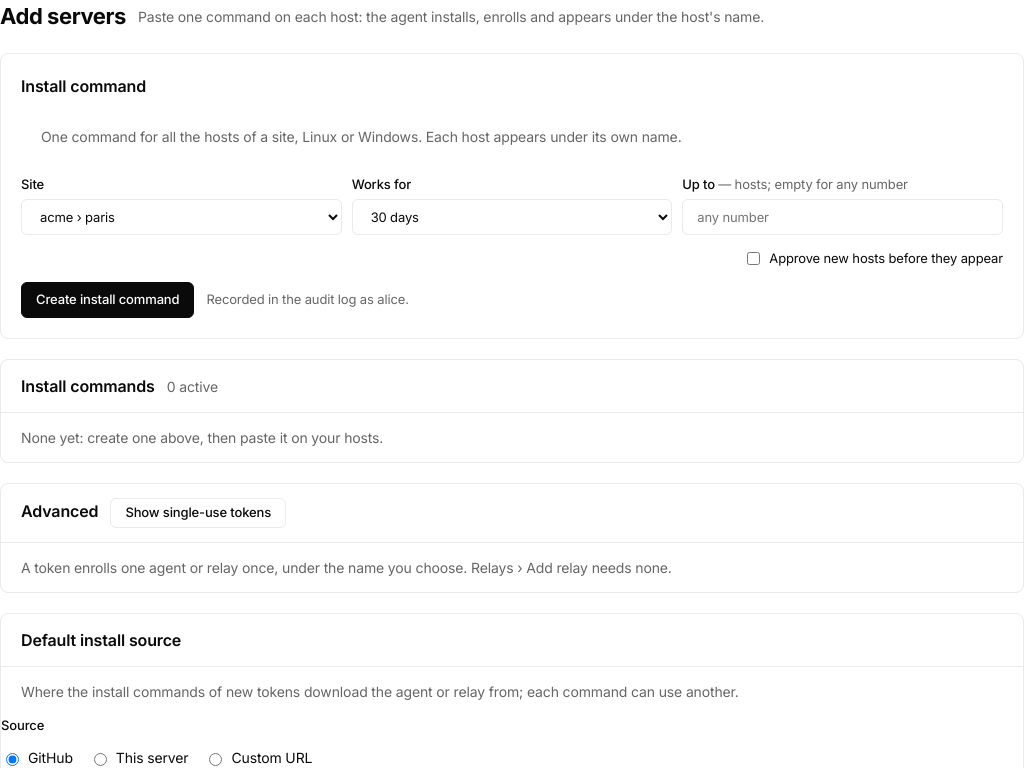
it: TokensAdmin › lets global administrators change the default source
Check: the radio button labelled "GitHub" is checked, box [6, 752, 19, 766]
Click the radio button labelled "Custom URL".
click(216, 759)  # box [209, 752, 222, 766]
(page scrolled)
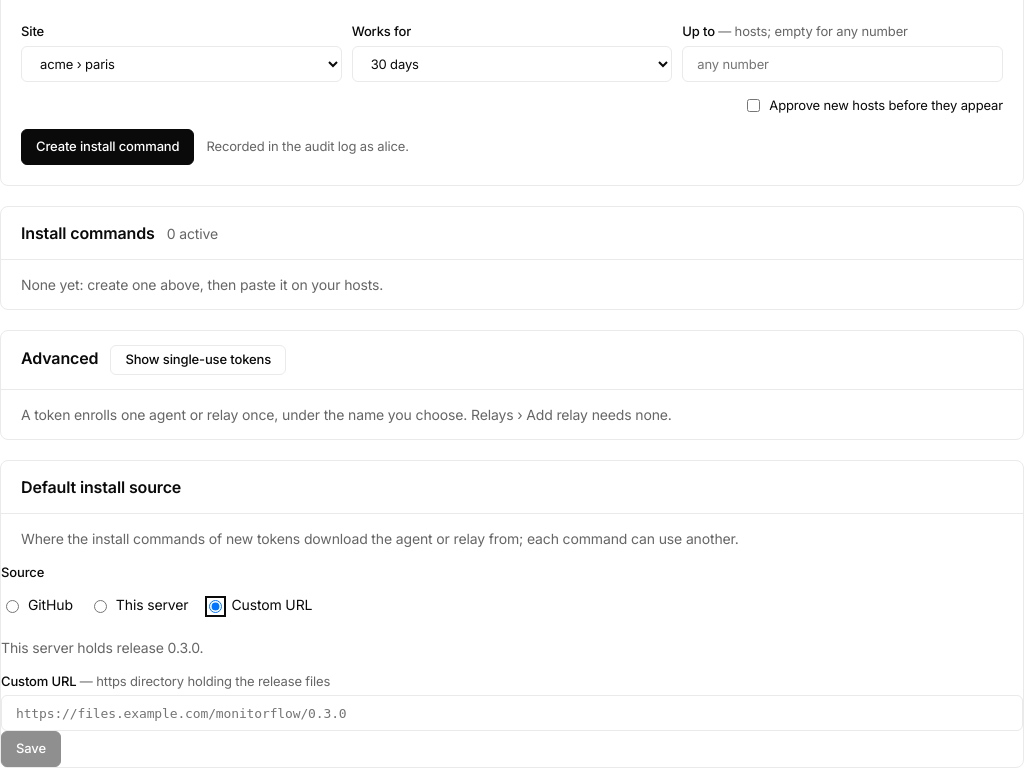
Check: the button "Save" is disabled, box [1, 731, 61, 767]
Type "https://files.example/$(id)" into the field labelled "Custom URL — https directory holding the release files".
click(512, 713); type("https://files.example/$(id)")  # box [1, 695, 1023, 731]
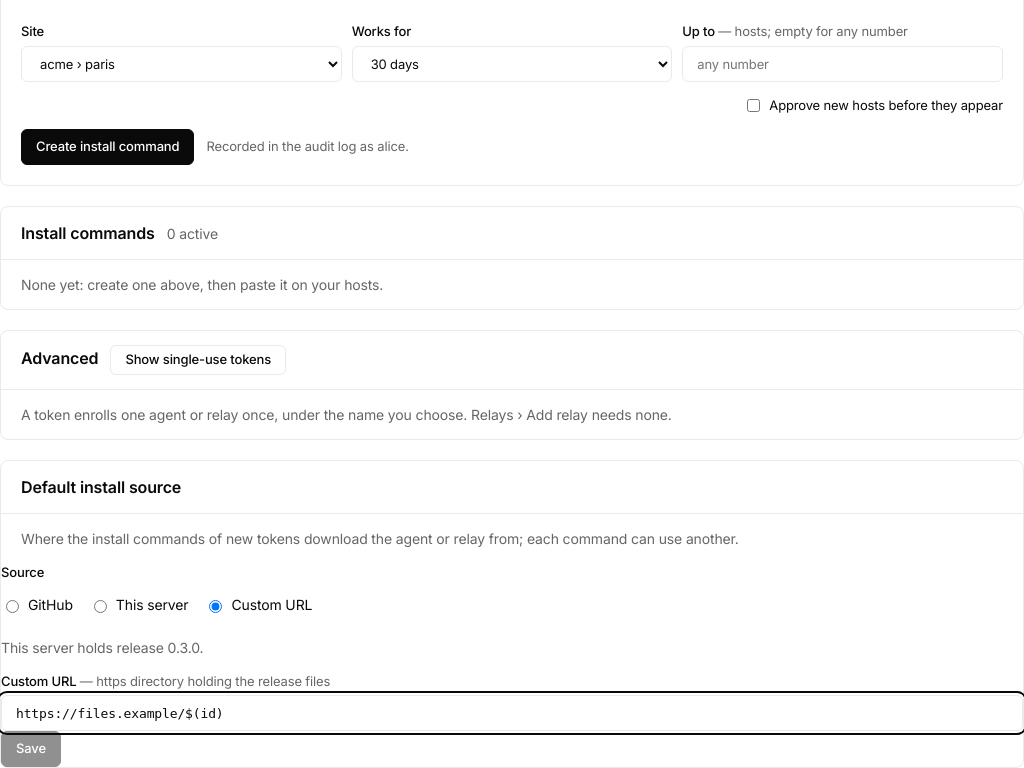
Check: the button "Save" is disabled, box [1, 731, 61, 767]
Replace the text in the field labelled "Custom URL — https directory holding the release files" with "https://files.example/mf/" at [512, 713], box [1, 695, 1023, 731]
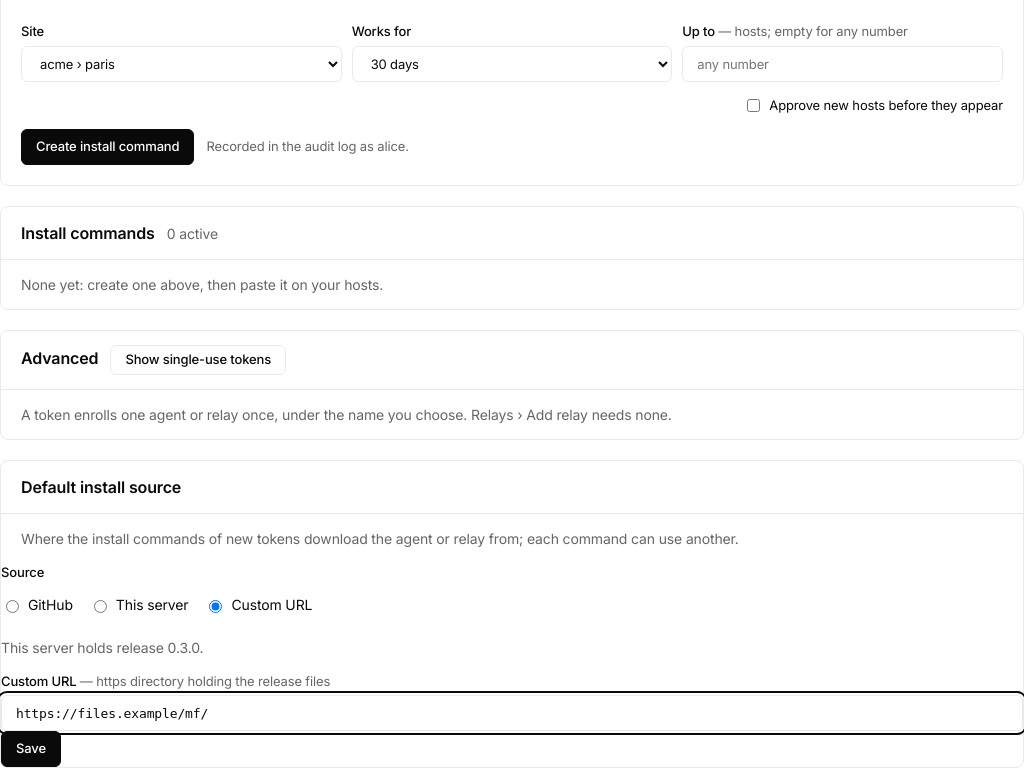
Click the button "Save".
click(31, 749)  # box [1, 731, 61, 767]
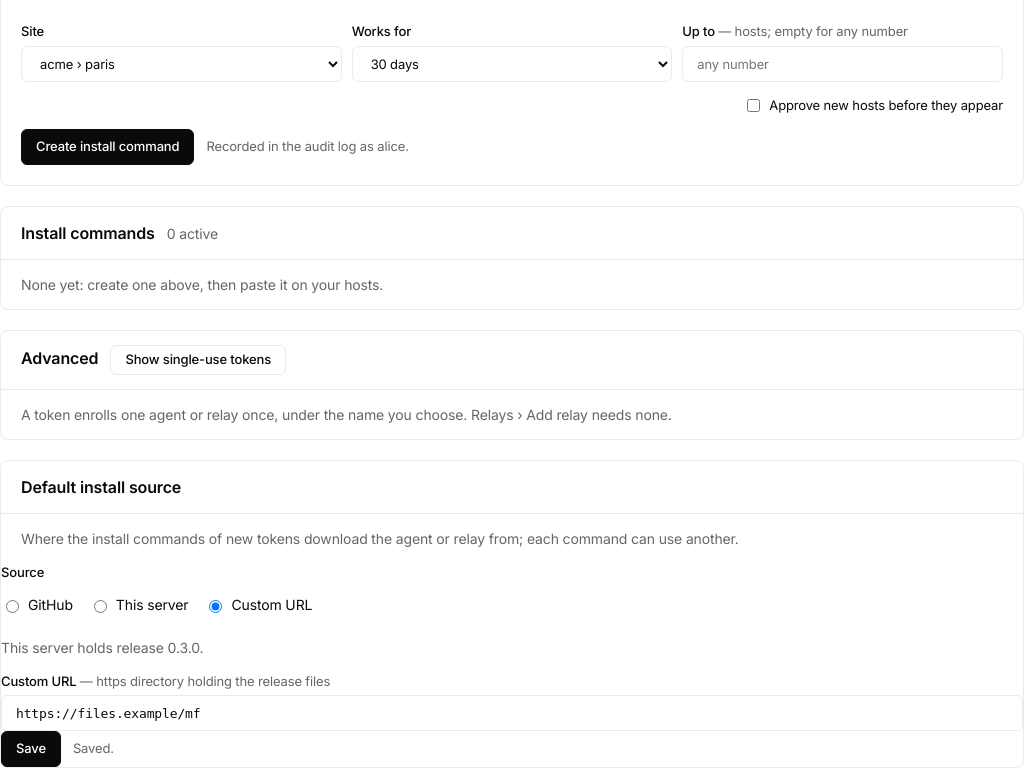
Check: the radio button labelled "Custom URL" is checked, box [209, 600, 222, 612]
Check: the text "Saved." is shown, box [73, 739, 114, 759]
